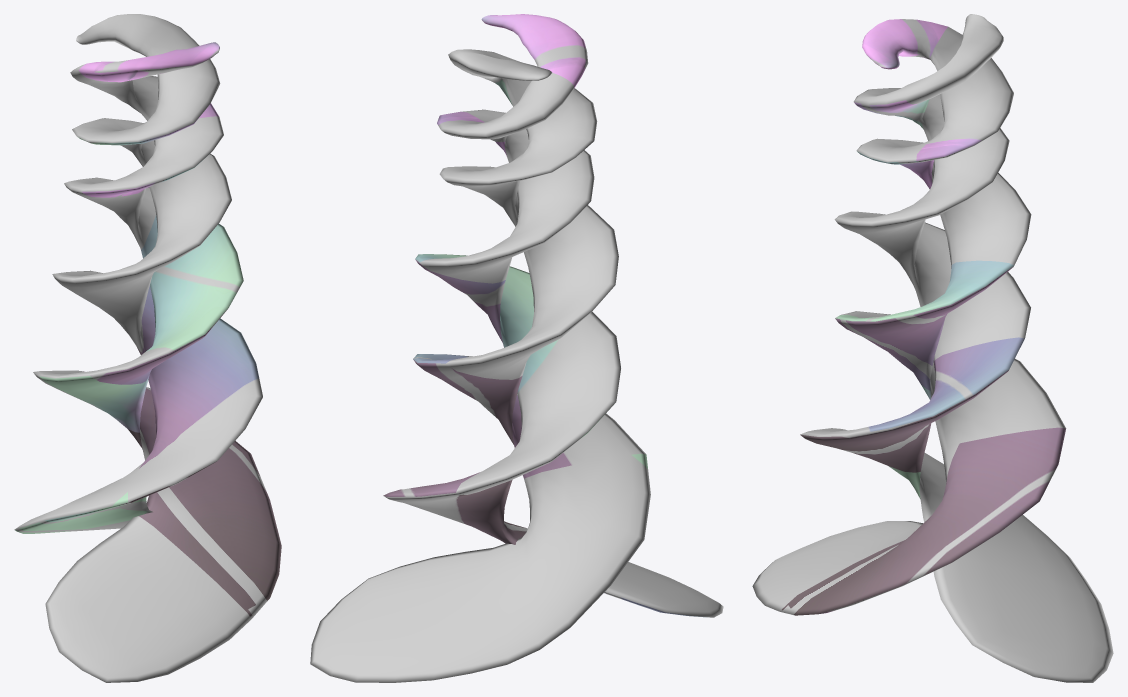
The model's file is Rotating_plants.fbx.
3 views of the same model, side by side, from view 1: azimuth 30°, elevation 25°; view 2: azimuth 150°, elevation 25°; view 3: azimuth 270°, elevation 25° (orthographic). The views are drawn at different scales.
Parts seen in each view (by area): view 1: Rotating plants; view 2: Rotating plants; view 3: Rotating plants.
Boxes of the visible parts, x1,y1,x2,y2 form: Rotating plants: [14, 14, 281, 682]; Rotating plants: [310, 14, 723, 682]; Rotating plants: [752, 14, 1113, 682].
Bounding box in the file's own units: 8.07 × 8.78 × 15.76.
